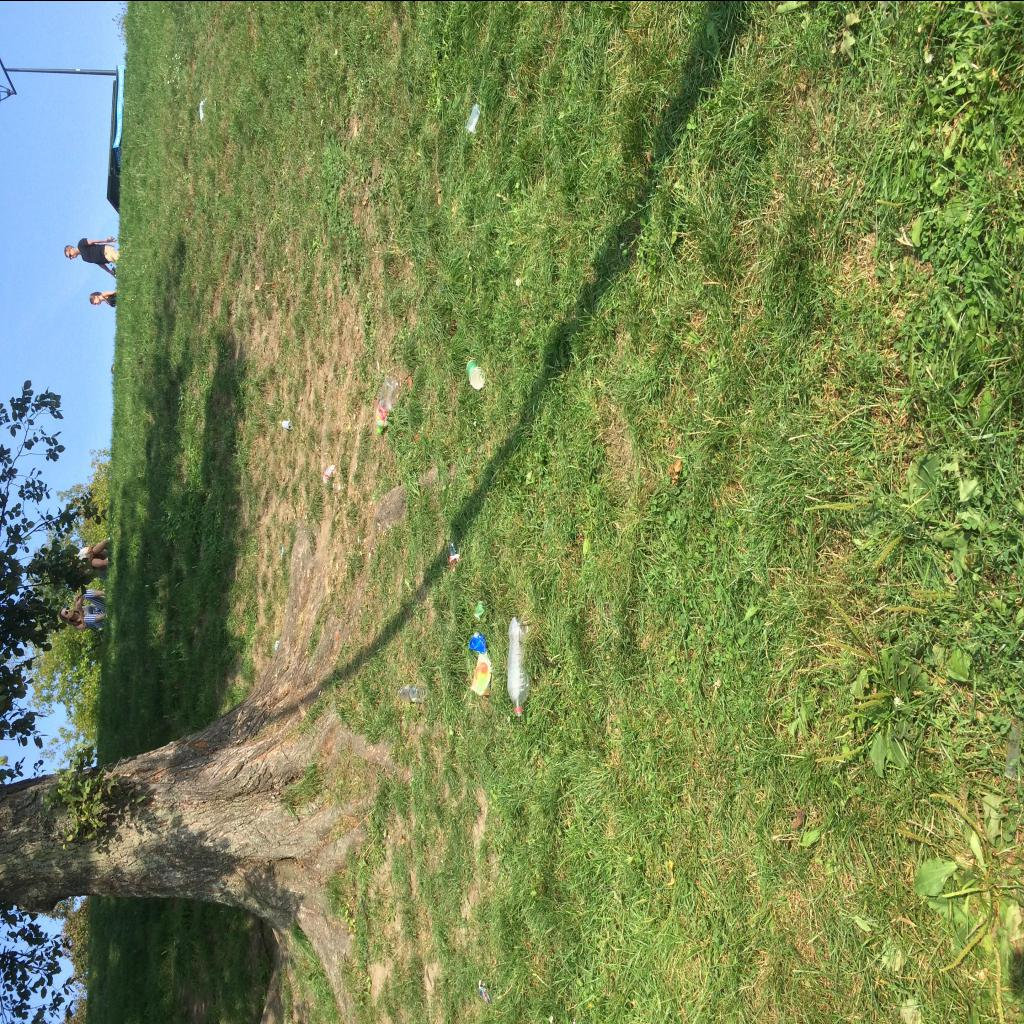Clear plastic bottle: (507, 616, 529, 716), (376, 374, 400, 432), (322, 464, 334, 483)
Drink can: (282, 420, 292, 430)
Glass bottle: (398, 684, 426, 702)
Other plastic: (450, 553, 460, 571)
Paper cup: (466, 360, 486, 388)
Unlabeled litter: (478, 978, 490, 1003), (474, 600, 484, 618), (199, 98, 206, 120), (450, 542, 456, 554), (275, 640, 279, 650)
